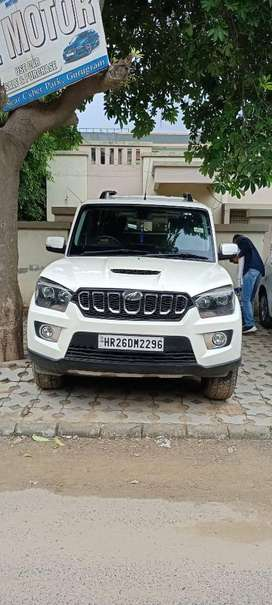HR26DM2296: (96, 333, 164, 352)
